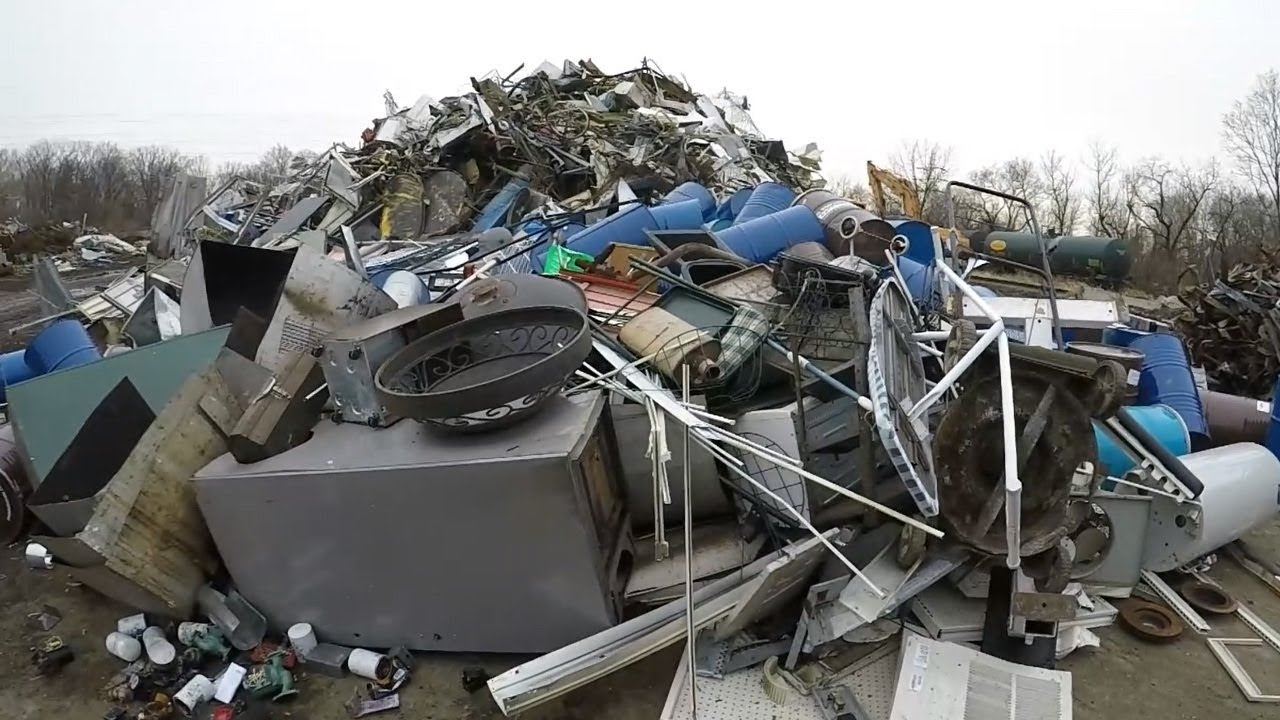metal: (455, 518, 847, 718), (35, 381, 268, 647), (825, 273, 975, 524), (363, 287, 608, 440), (298, 299, 488, 442), (1113, 431, 1279, 572), (227, 337, 338, 470), (546, 195, 686, 295), (696, 201, 851, 290), (1120, 315, 1214, 436), (1075, 396, 1203, 480), (788, 180, 903, 267), (21, 310, 111, 403), (1109, 586, 1193, 653), (727, 167, 810, 227), (195, 587, 264, 652), (1173, 569, 1256, 619), (343, 642, 400, 691), (132, 617, 181, 674), (278, 619, 330, 669), (164, 672, 223, 715), (97, 624, 146, 671), (307, 639, 351, 678)
